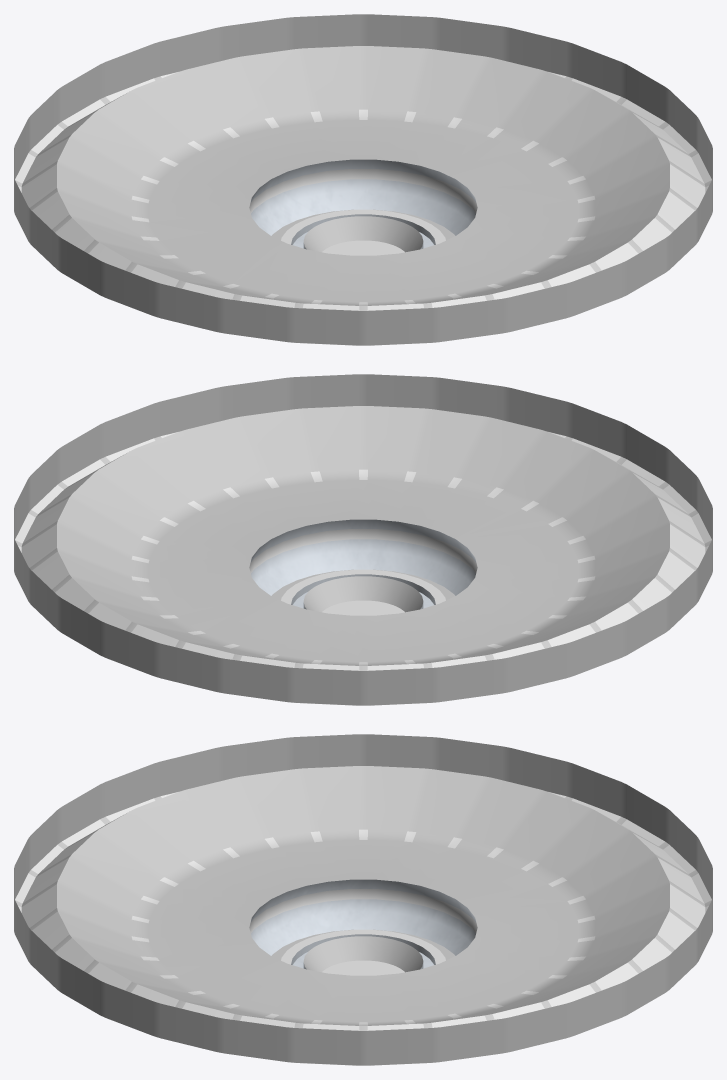
File: SM_MainDeckCeiling.fbx
3 views of the same model, one above another, from view 1: azimuth 30°, elevation 25°; view 2: azimuth 150°, elevation 25°; view 3: azimuth 270°, elevation 25° (orthographic).
Parts seen in each view (by area): view 1: SM_MainDeckCeiling_LOD0; view 2: SM_MainDeckCeiling_LOD0; view 3: SM_MainDeckCeiling_LOD0.
Boxes of the visible parts, x1,y1,x2,y2 form: SM_MainDeckCeiling_LOD0: (14,14,712,345); SM_MainDeckCeiling_LOD0: (14,374,712,705); SM_MainDeckCeiling_LOD0: (14,734,712,1065).
Size of the model in its own units: 477 by 72.68 by 475.
